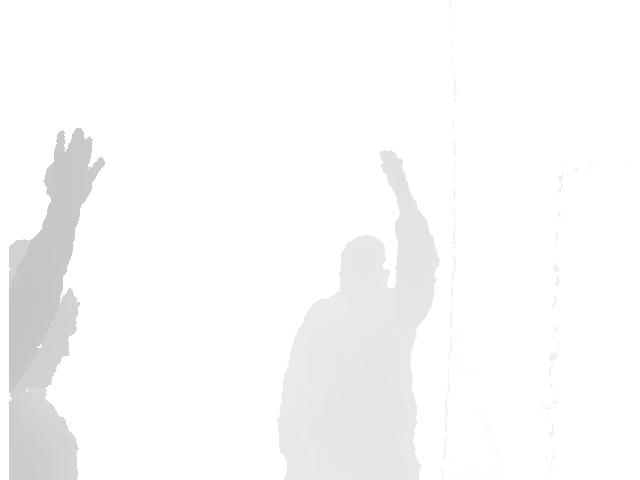hand: (44, 126, 105, 204), (379, 149, 410, 198)
head: (8, 266, 79, 393), (338, 232, 391, 306)
person: (276, 149, 441, 480), (9, 126, 105, 480)
